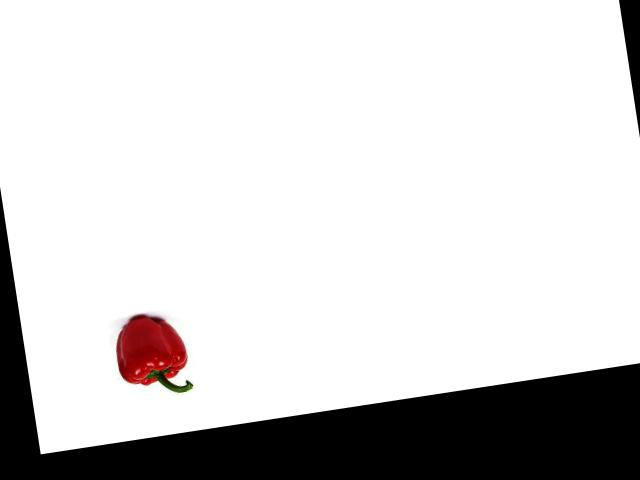bell_pepper: (105, 308, 197, 403)
